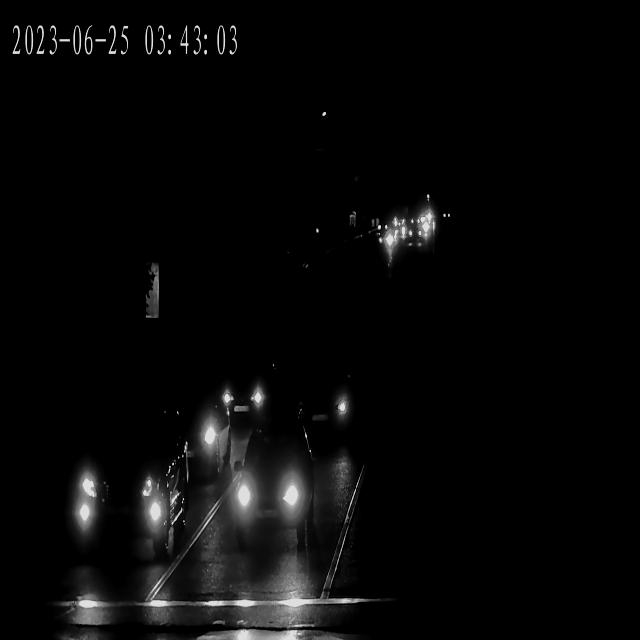Car: (54, 424, 186, 536), (230, 434, 316, 543), (132, 395, 233, 484), (286, 364, 359, 440), (209, 362, 274, 418), (407, 218, 428, 248), (389, 216, 410, 244), (415, 200, 432, 228), (381, 229, 394, 255)
